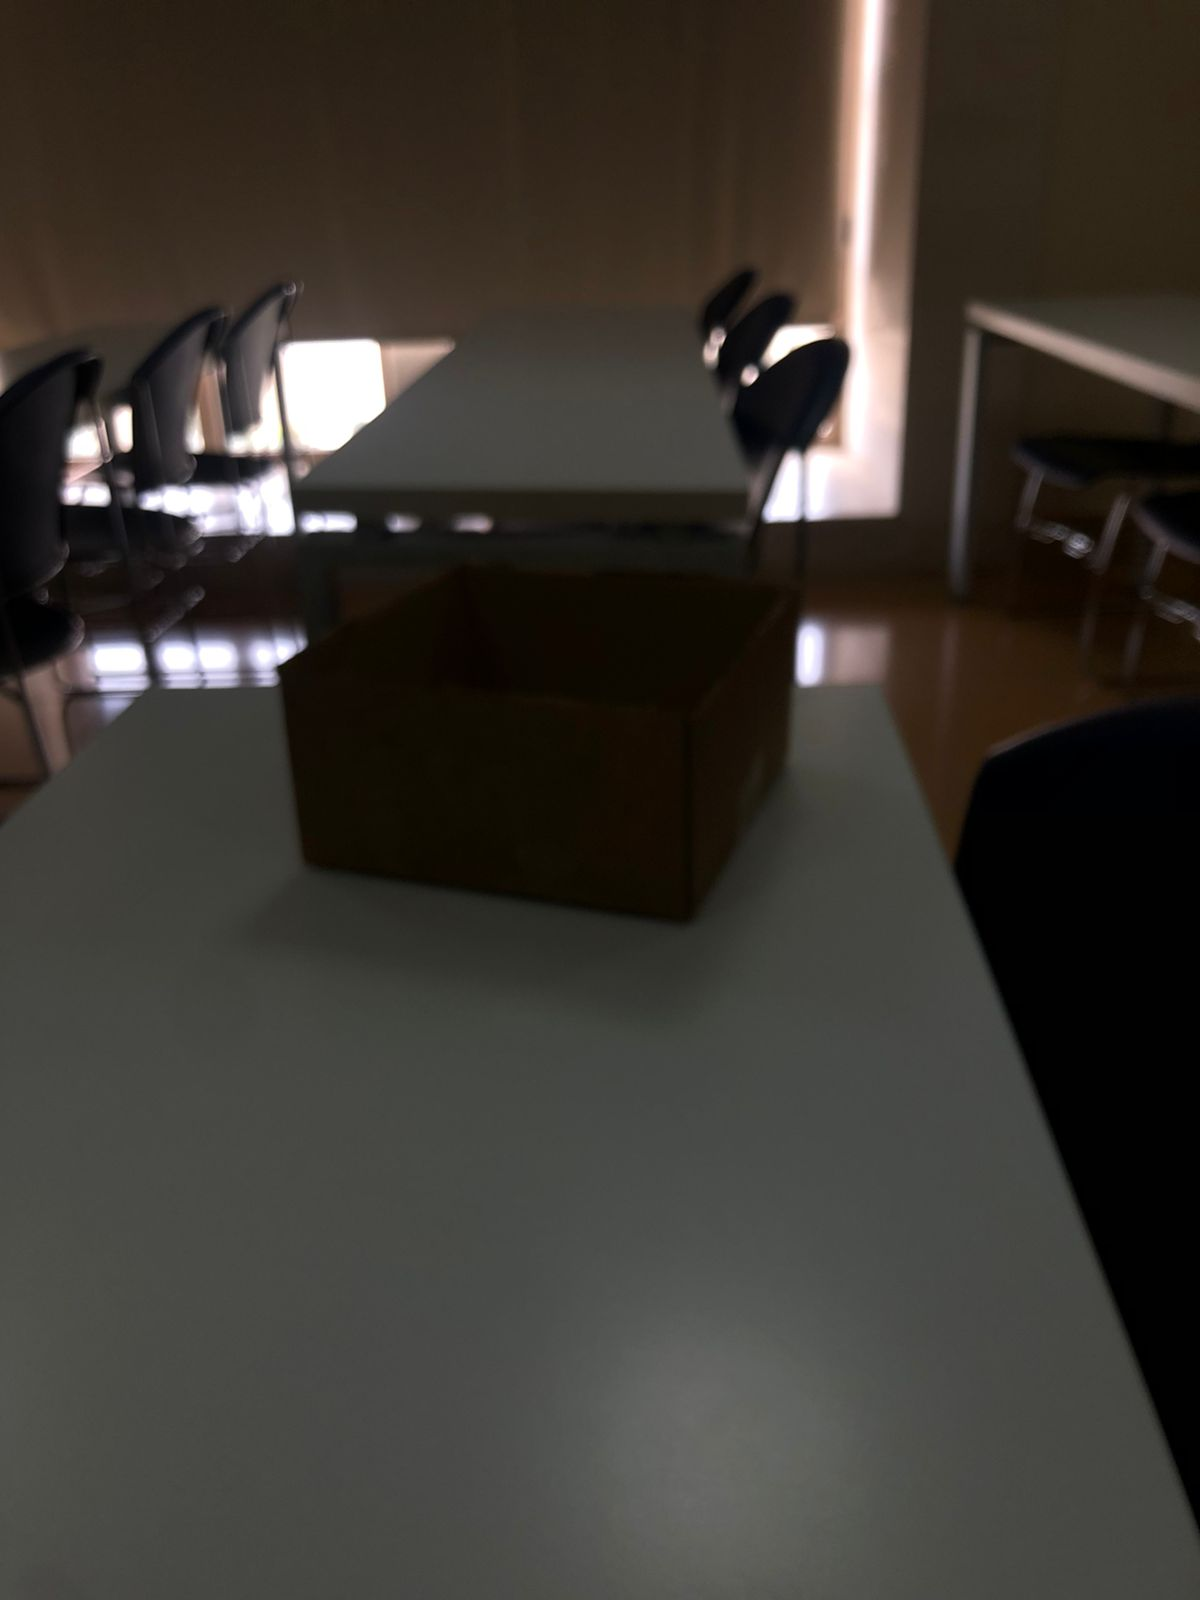CBox: (274, 556, 819, 941)
